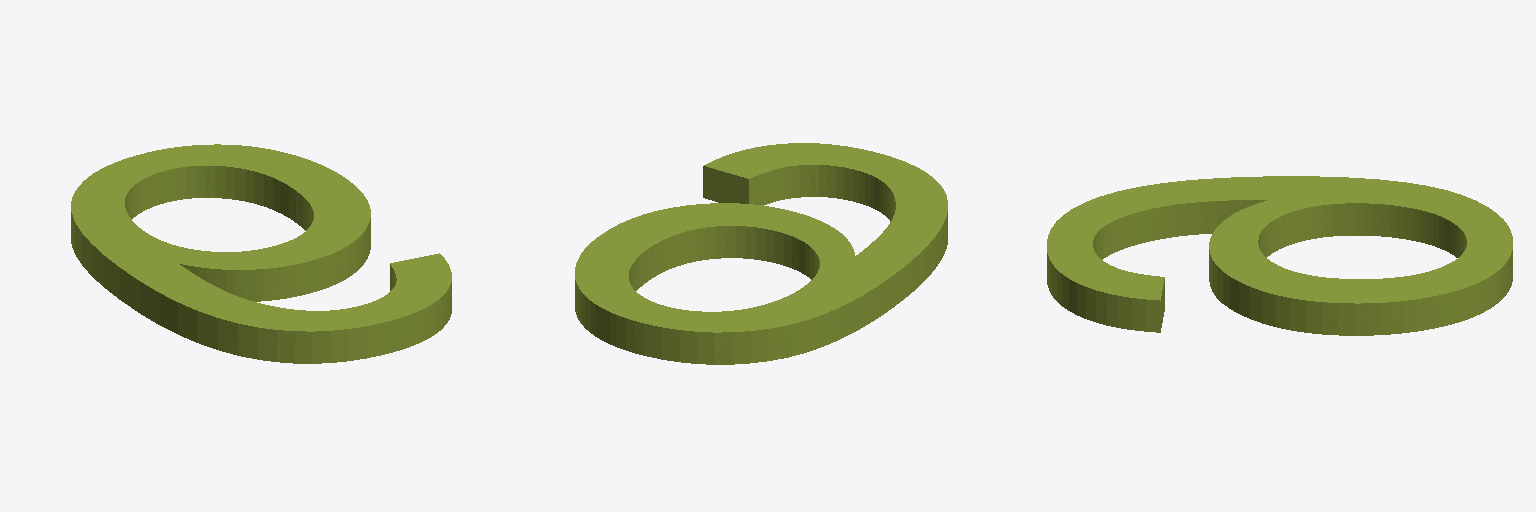
3 renders of one model, left to right at view 1: azimuth 30°, elevation 25°; view 2: azimuth 150°, elevation 25°; view 3: azimuth 270°, elevation 25°, orthographic.
Visible parts, largest first — view 1: six; view 2: six; view 3: six.
Part boxes in pixels (bbox=[...]): six: bbox=[71, 144, 451, 363]; six: bbox=[575, 143, 947, 364]; six: bbox=[1047, 176, 1512, 335].
Bounding box in the file's own units: 42.3 × 5 × 65.5.
1 materials, 1 textured.